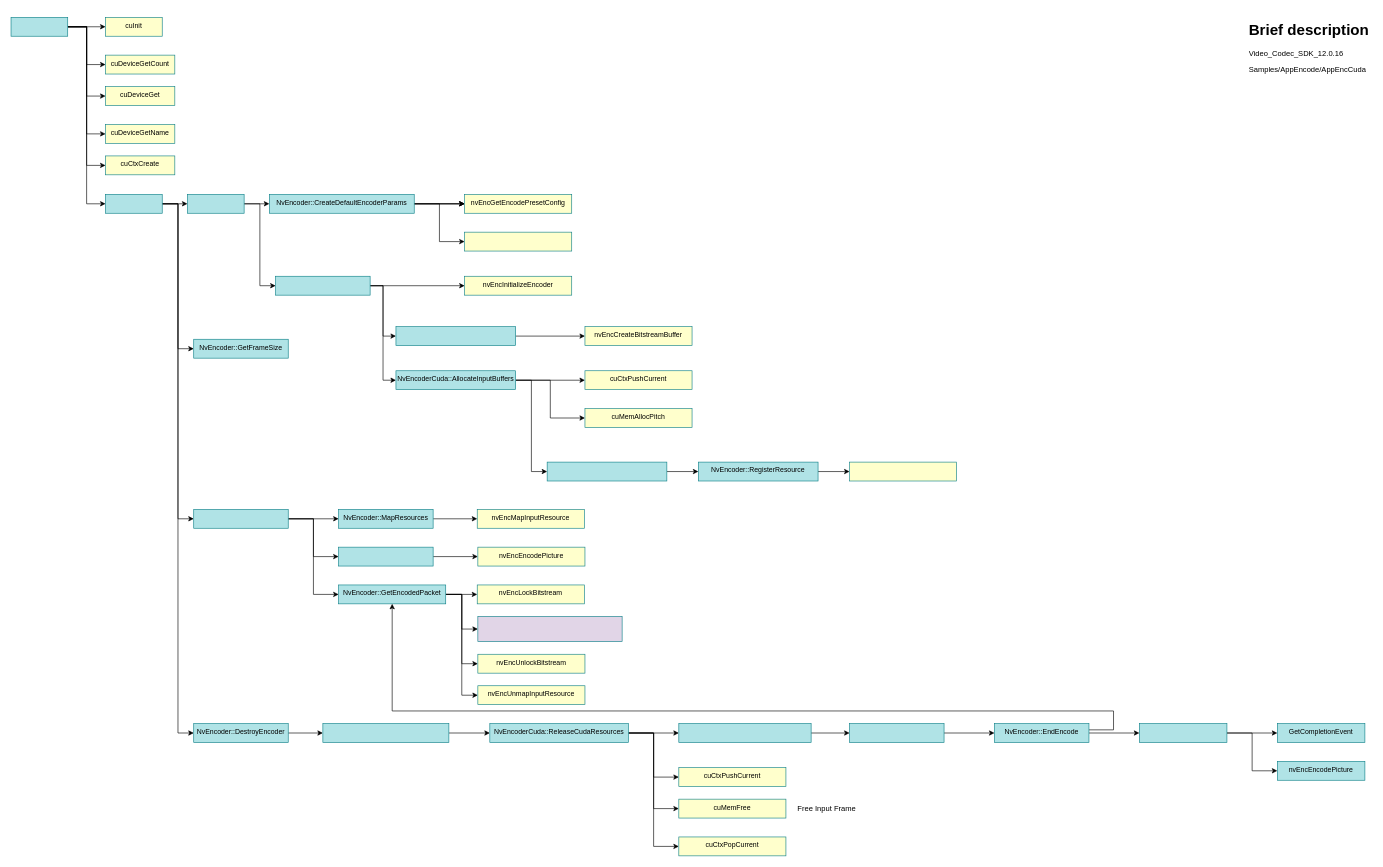
The diagram is 1383 pixels wide and 867 high, and some of its shapes have lost their labels. The centre of each missing label's shape, as x and y in pixels:
"copy bitstream For AV1, write ivf file header and frame header" goes at (549,629).
"EncodeCuda" goes at (133,203).
"InitializeEncoder" goes at (215,203).
"main" goes at (39,26).
"nvEncGetEncodePresetConfigEx" goes at (518,241).
"NvEncoder::CreateEncoder" goes at (322,285).
"NvEncoder::DoEncode" goes at (385,556).
"NvEncoder::EncodeFrame" goes at (240,518).
"NvEncoder::FlushEncoder" goes at (896,732).
"NvEncoder::InitializeBitstreamBuffer" goes at (455,336).
"NvEncoder::RegisterInputResources" goes at (607,471).
"NvEncoder::SendEOS" goes at (1183,732).
"NvEncoder::UnregisterInputResources" goes at (744,732).
"NvEncoderCuda::ReleaseInputBuffers" goes at (385,732).
"nvEncRegisterResource" goes at (903,471).
